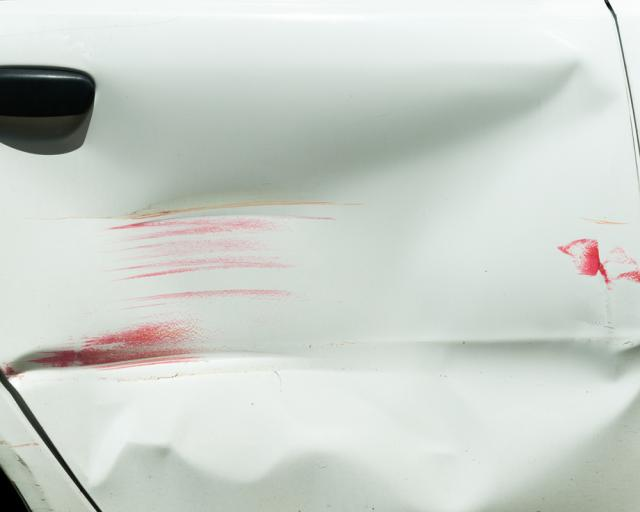dent: (19, 61, 640, 506)
